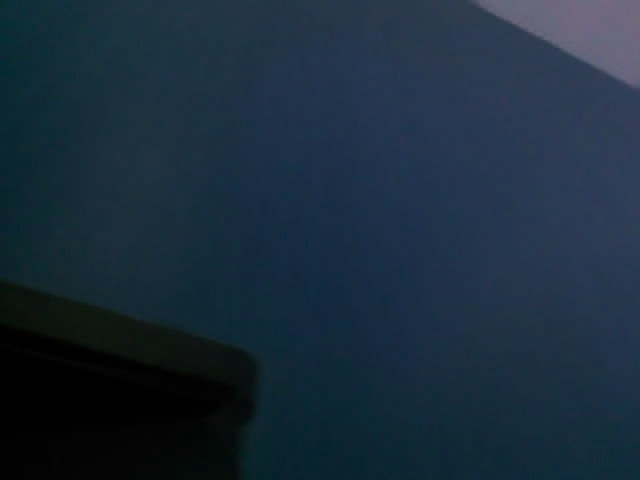小玩具: (363, 296, 500, 325)
数据线: (93, 216, 247, 335), (208, 179, 313, 272)
